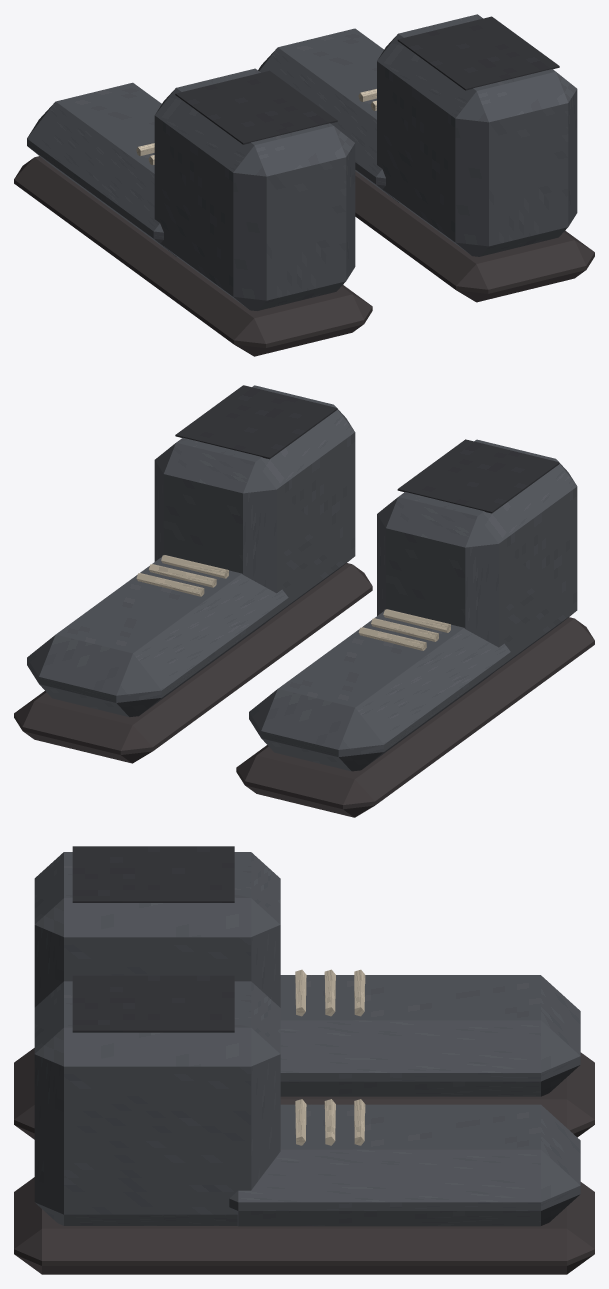
File: motor_police_boots.glb
3 renders of one model, top to bottom at view 1: azimuth 30°, elevation 25°; view 2: azimuth 150°, elevation 25°; view 3: azimuth 270°, elevation 25°, orthographic. The views are drawn at different scales.
Visible parts, largest first — view 1: block_shaft (×2), block_shaped sole (×2), block_vamp and toe (×2), block_opening (×2); view 2: block_shaft (×2), block_vamp and toe (×2), block_shaped sole (×2), block_opening (×2), block_lace (×6); view 3: block_shaft (×2), block_vamp and toe (×2), block_shaped sole (×2), block_opening (×2).
Part boxes in pixels (box(x1,y1,x2,y2)): block_shaft (×2): box(154, 14, 577, 310); block_shaped sole (×2): box(14, 156, 594, 356); block_vamp and toe (×2): box(27, 28, 398, 256); block_opening (×2): box(175, 16, 559, 144); block_shaft (×2): box(154, 385, 577, 670); block_vamp and toe (×2): box(27, 555, 510, 771); block_shaped sole (×2): box(14, 563, 594, 817); block_opening (×2): box(175, 385, 559, 513); block_lace (×6): box(136, 555, 450, 650); block_shaft (×2): box(34, 852, 280, 1225); block_vamp and toe (×2): box(229, 975, 580, 1226); block_shaped sole (×2): box(14, 1048, 594, 1274); block_opening (×2): box(72, 846, 234, 1032).
Size of the model in its own units: 0.2635 by 0.1419 by 0.3076.
Materials: 1 (1 with a texture image).
